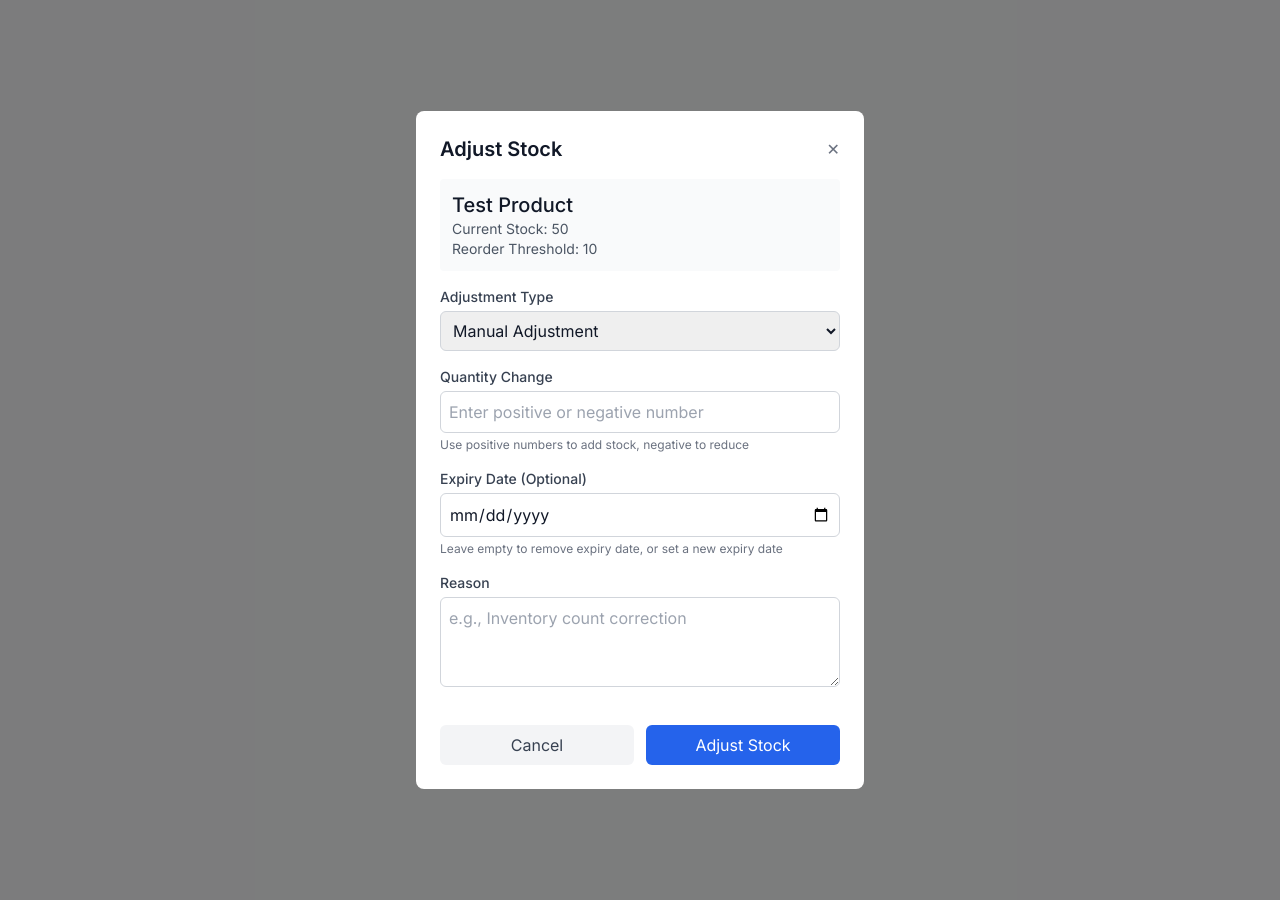
it: StockAdjustmentModal › should show error for excessive negative adjustment
// Enter quantity that exceeds current stock
Type "-60" into the number field with placeholder "Enter positive or negative number". click: (640, 412)
box: [440,391,840,433]
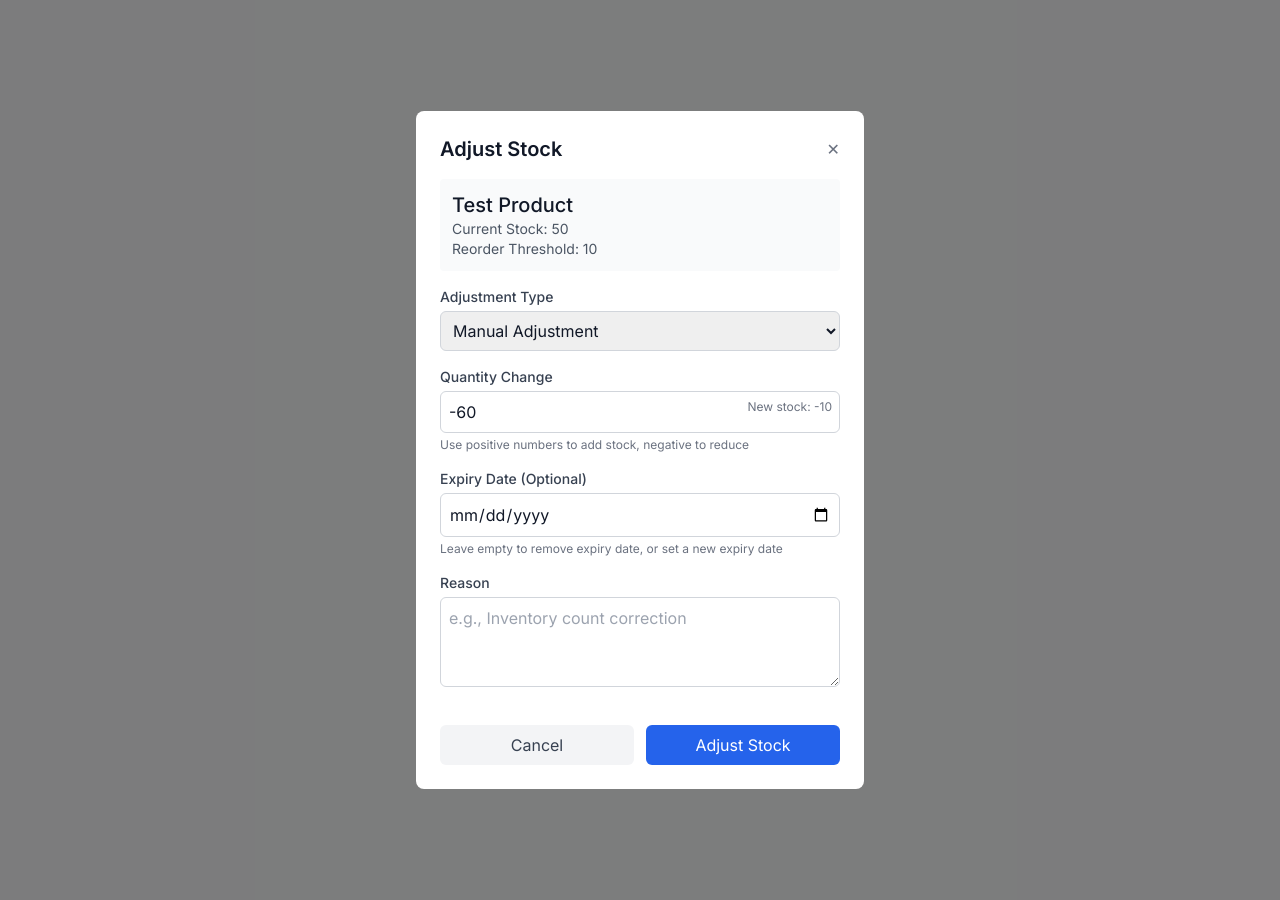
Type "Test reason" into the text box labelled "Reason". click: (640, 642)
box: [440,597,840,687]
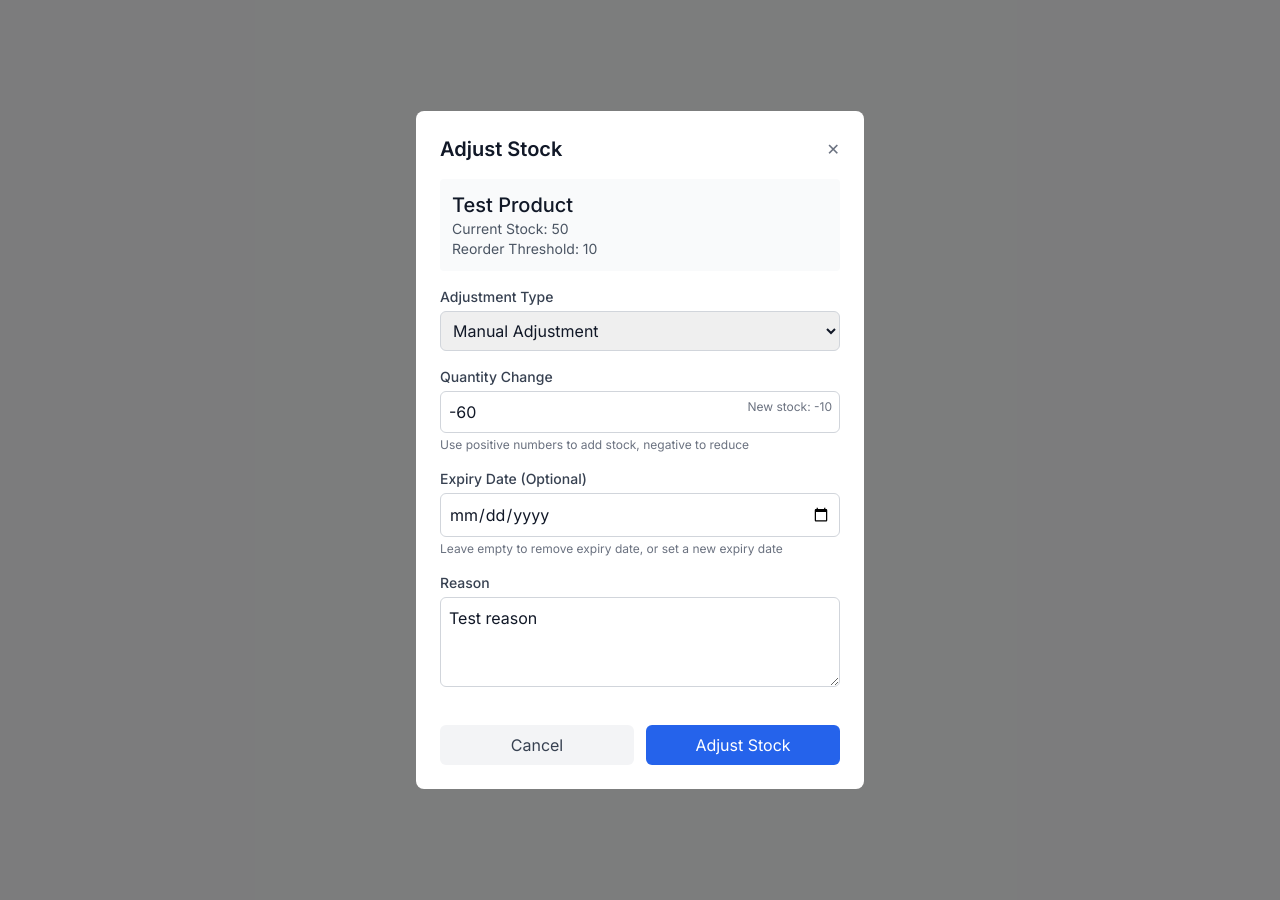
Click the button "Adjust Stock". click: (743, 745)
box: [646,725,840,765]
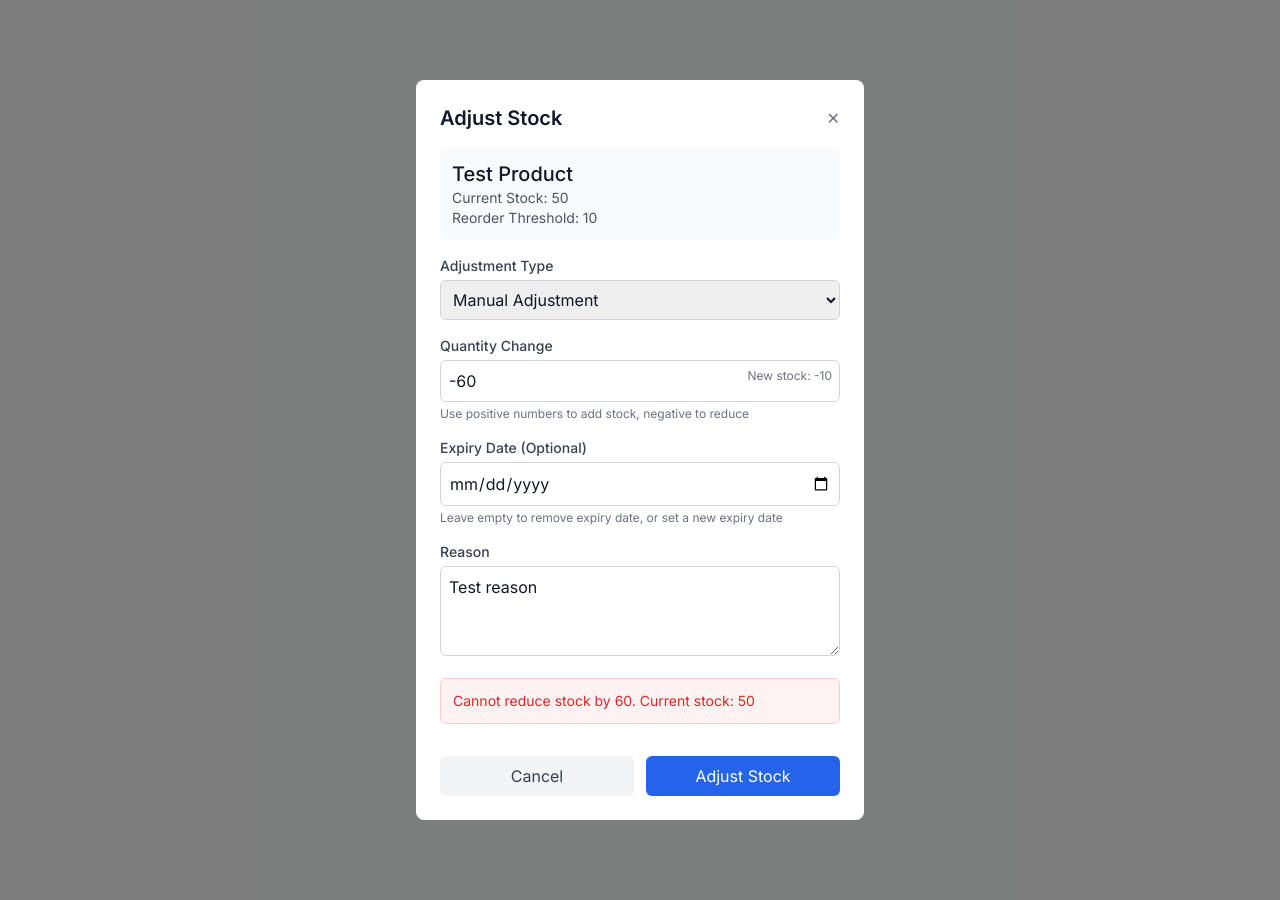
Now the text "Cannot reduce stock by 60. Current stock: 50" is shown, box [453,692,755,709]
